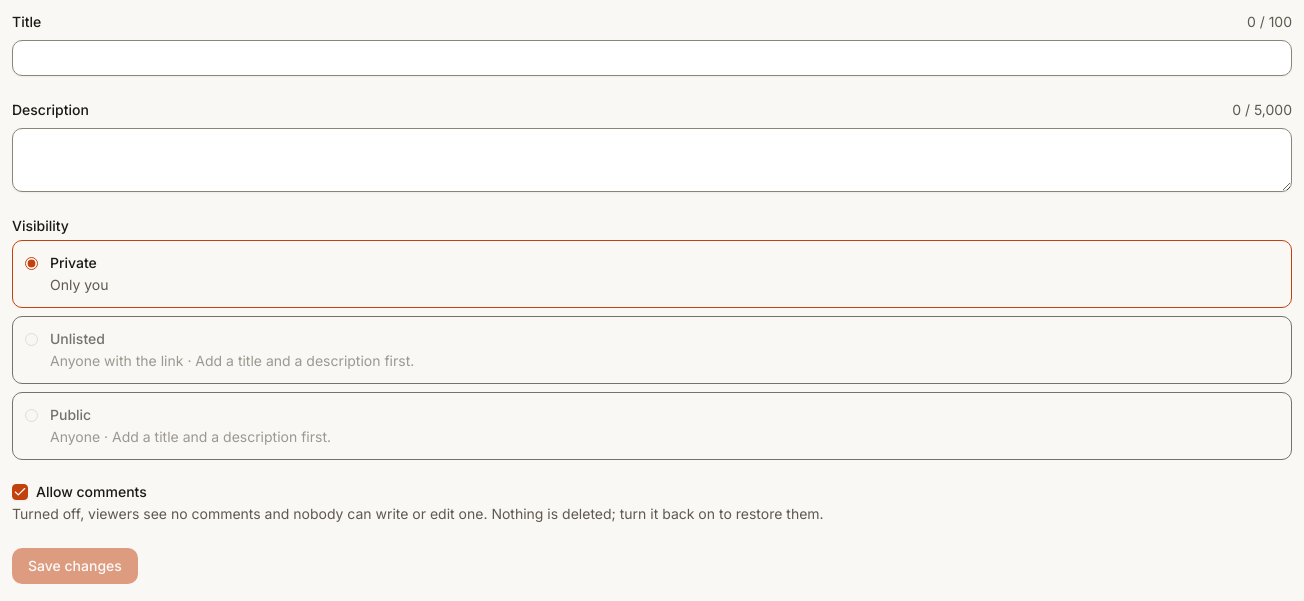
EditVideoForm › disables Unlisted and Public with the reason until a title and description are filled
Check: the radio button labelled "Unlisted" is disabled, box [25,333,38,346]
Check: the radio button labelled "Public Anyone · Add a title and a description first." is disabled, box [25,409,38,422]
In the field labelled "Title": coordinates (652, 58) [12,40,1292,76], type "Holiday"
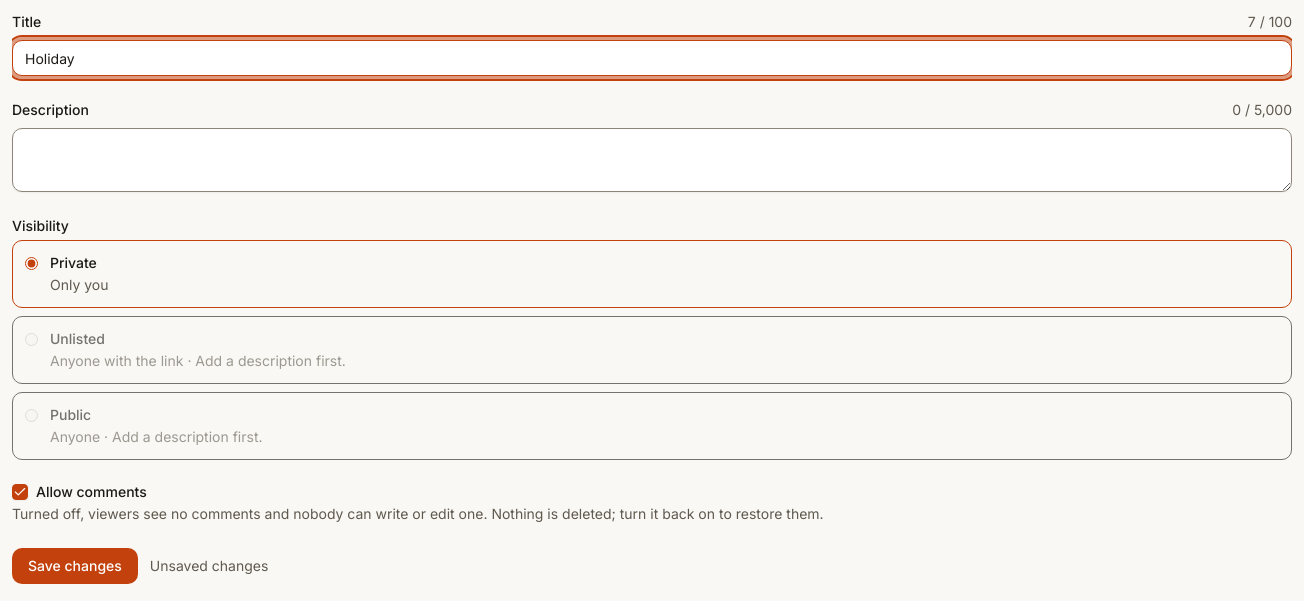
Check: the radio button labelled "Unlisted Anyone with the link · Add a description first." is disabled, box [25,333,38,346]
Check: the text "Anyone with the link · Add a description first." is shown, box [50,351,346,371]
In the text box labelled "Description": coordinates (652, 160) [12,128,1292,192], type "Two weeks away"
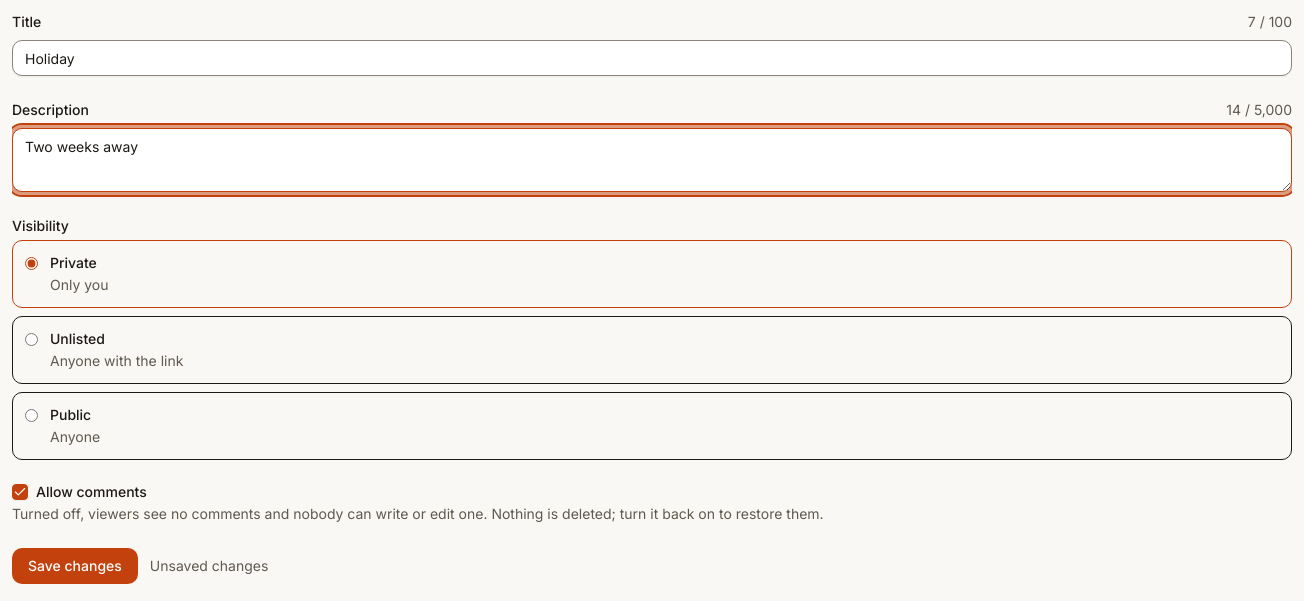
Check: the radio button labelled "Unlisted Anyone with the link" is enabled, box [25,333,38,346]
Check: the radio button labelled "Public Anyone" is enabled, box [25,409,38,422]
